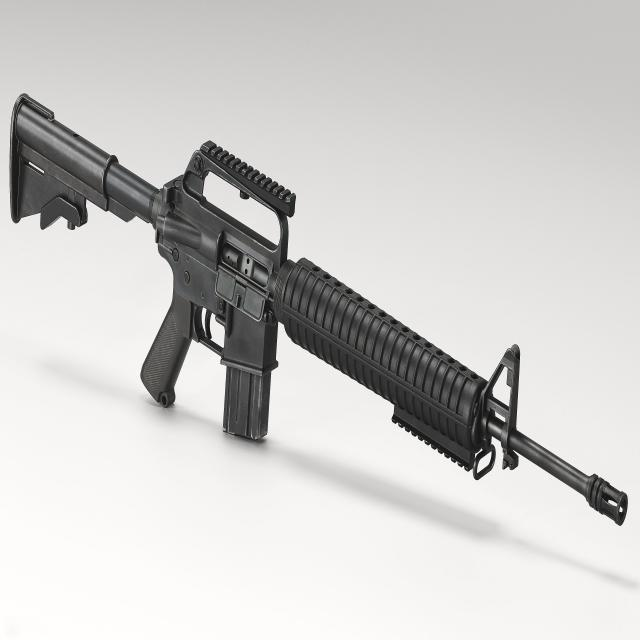m16: (5, 49, 631, 596)
